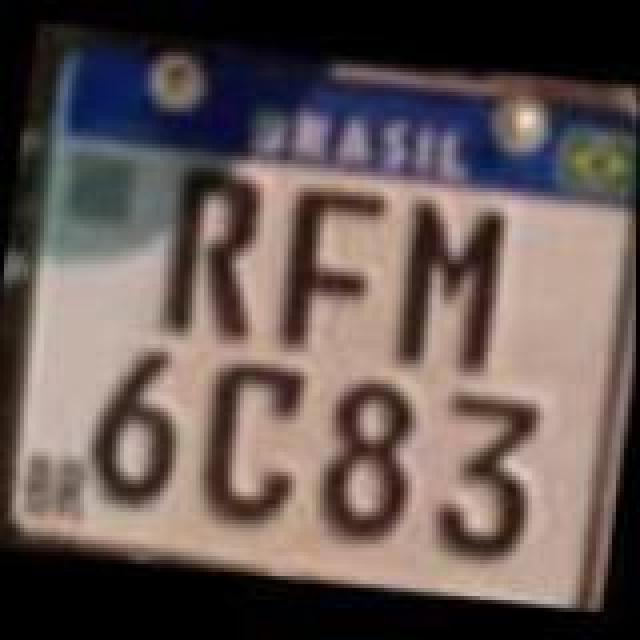3: (420, 380, 548, 564)
6: (82, 338, 190, 510)
8: (310, 368, 422, 540)
C: (192, 348, 316, 528)
F: (266, 170, 386, 358)
M: (384, 194, 516, 378)
R: (150, 156, 274, 344)
